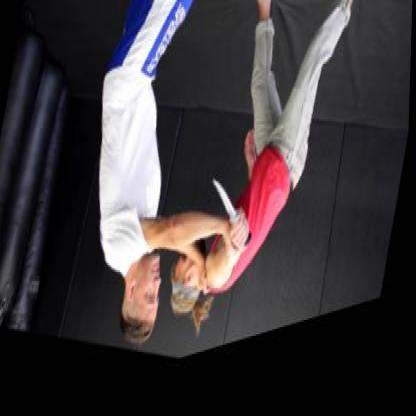knife: (200, 172, 264, 278)
